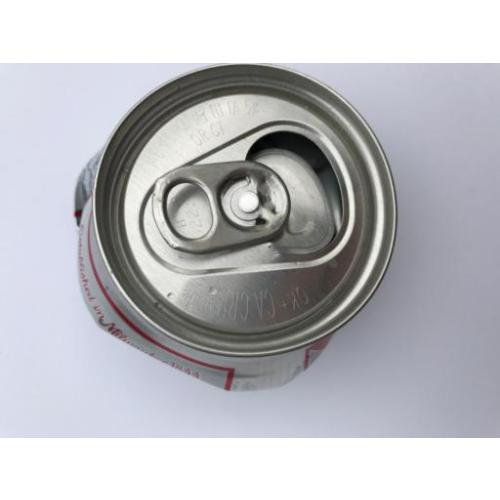metal: (73, 65, 401, 392)
